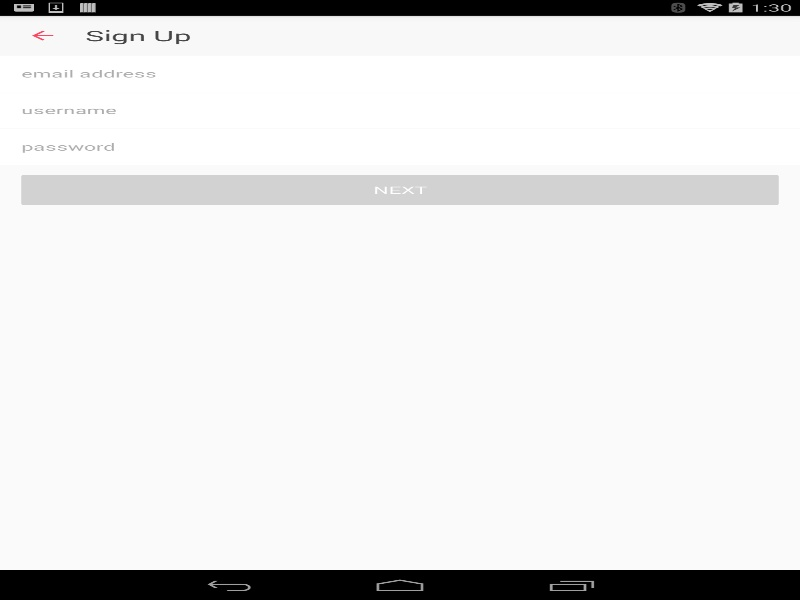Button: (21, 175, 778, 205), (0, 15, 85, 55)
Input: (0, 128, 800, 165), (0, 55, 800, 91), (0, 92, 800, 128)
